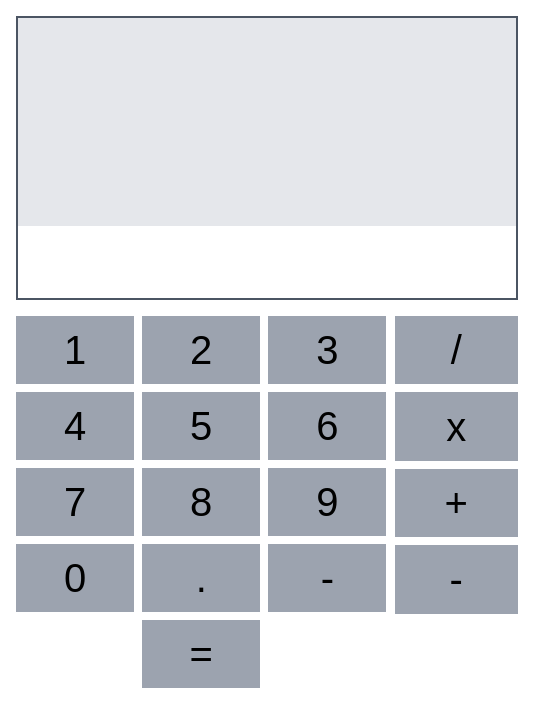
Test case: Tests Page › calculator › should type operations correctly
This screenshot has width=536, height=705.
What coordinates should you click on to do the following:
click the button "1"
I would click on:
 (75, 350)
Its box is [16,316,134,384].
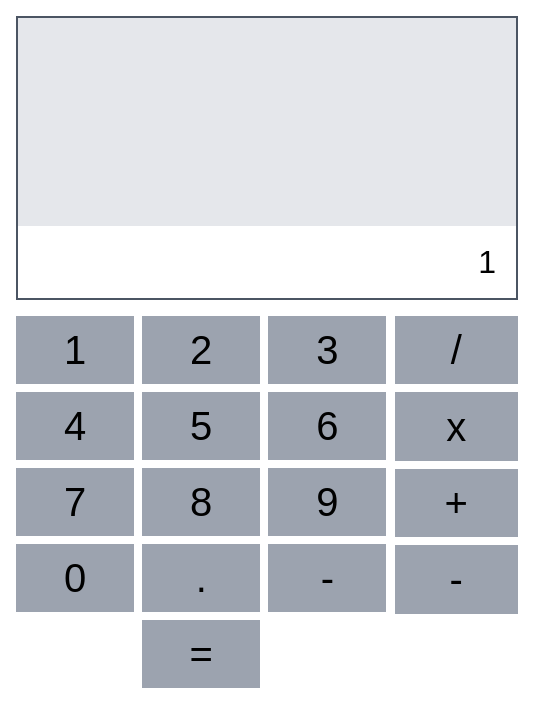
What coordinates should you click on to do the following:
click the button "+"
I would click on:
 (457, 503)
Its box is [395,469,519,537].
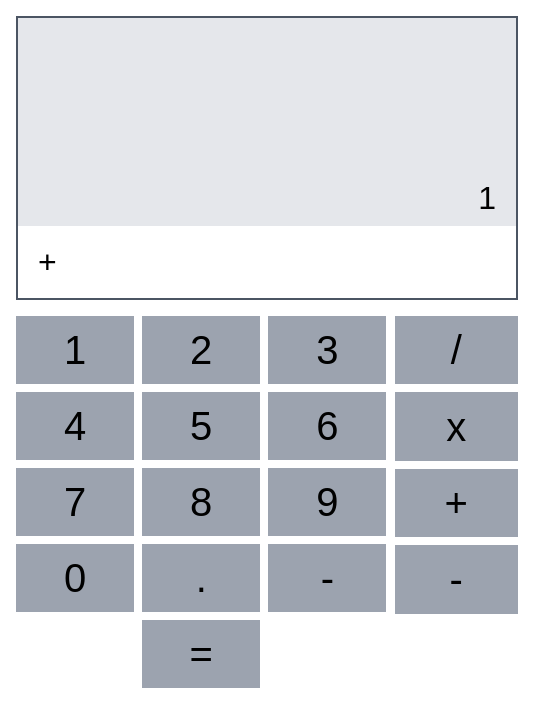
Expected: the 1st list item "1" is shown, [478,180,496,216]
Expected: the text named "operation" reads "+", [38,244,57,280]
